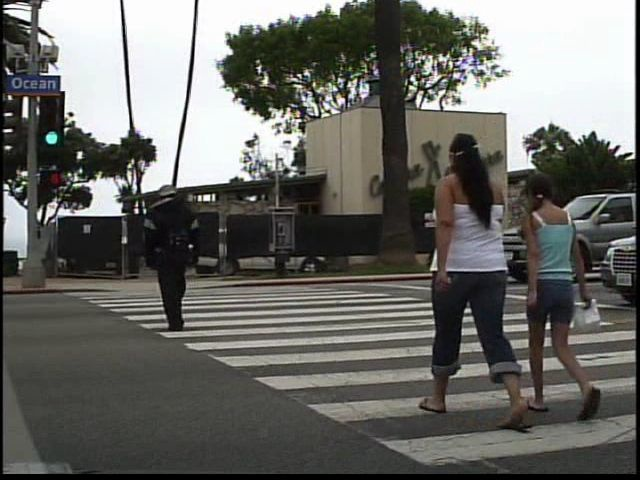person: (422, 124, 535, 435), (535, 164, 606, 430), (138, 173, 206, 340)
